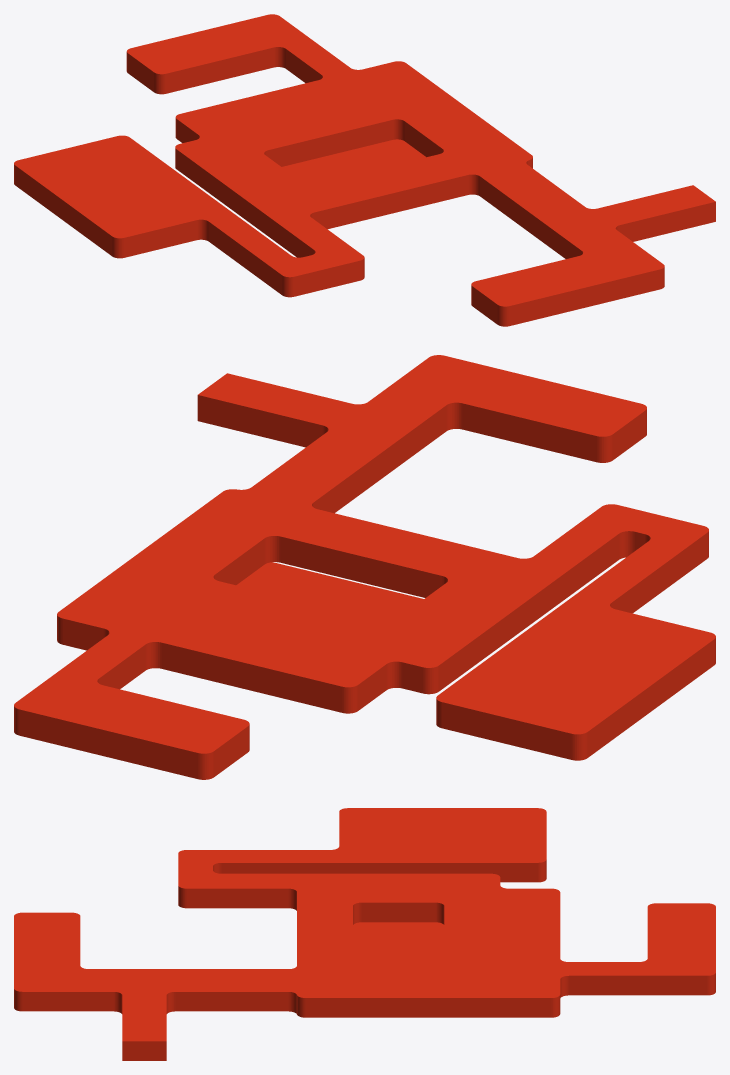
File: cueva2.fbx
3 renders of one model, top to bottom at view 1: azimuth 30°, elevation 25°; view 2: azimuth 150°, elevation 25°; view 3: azimuth 270°, elevation 25°, orthographic. The views are drawn at different scales.
Parts seen in each view (by area): view 1: nivC; view 2: nivC; view 3: nivC.
Part boxes in pixels (x1,y1,x2,y2): nivC: (14,14,715,326); nivC: (14,355,715,779); nivC: (14,808,715,1060).
Size of the model in its own units: 7.17 by 9.12 by 0.3607.
